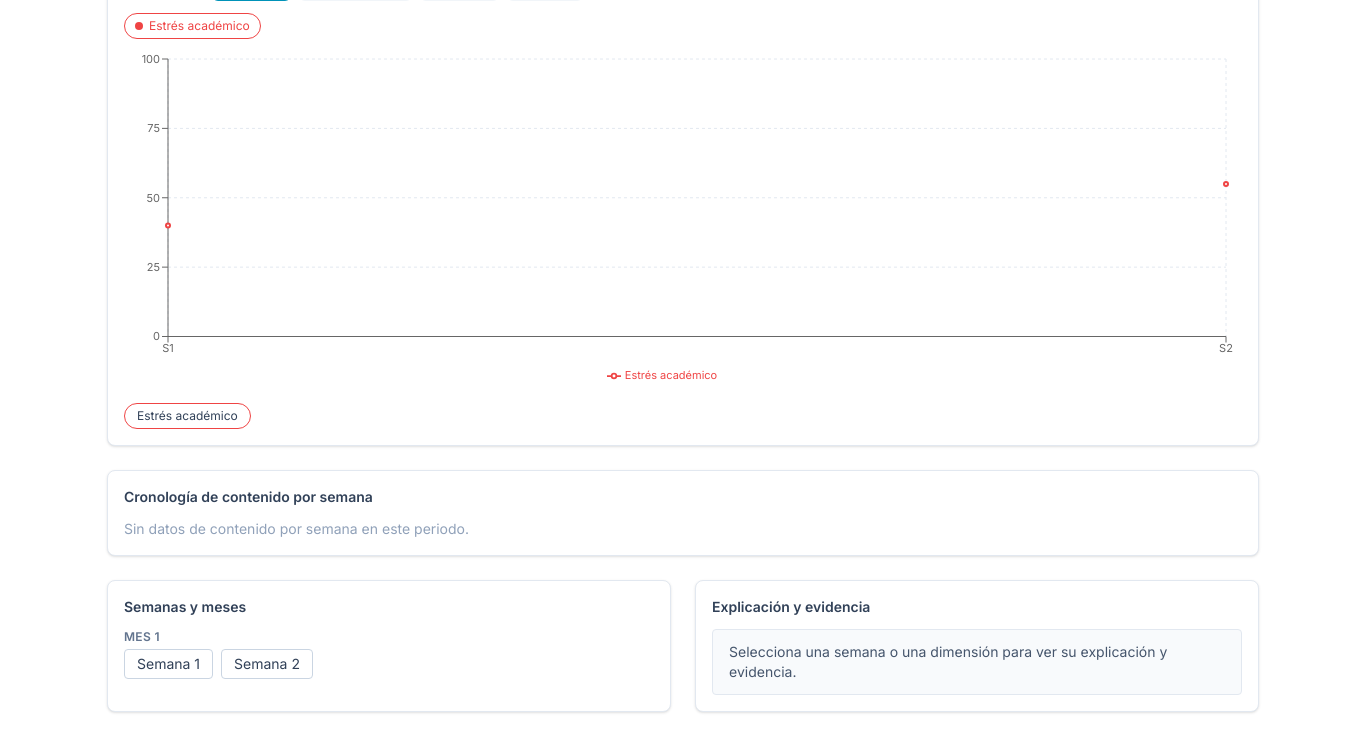
Test case: GdsTrazabilidad (vista de trazabilidad) › navega por semanas y abre el soporte de una semana (Req. 22.1, 22.3)
The image size is (1366, 737).
(page scrolled)
Click the button "Semana 1" at (168, 664), box [124,649,213,679]
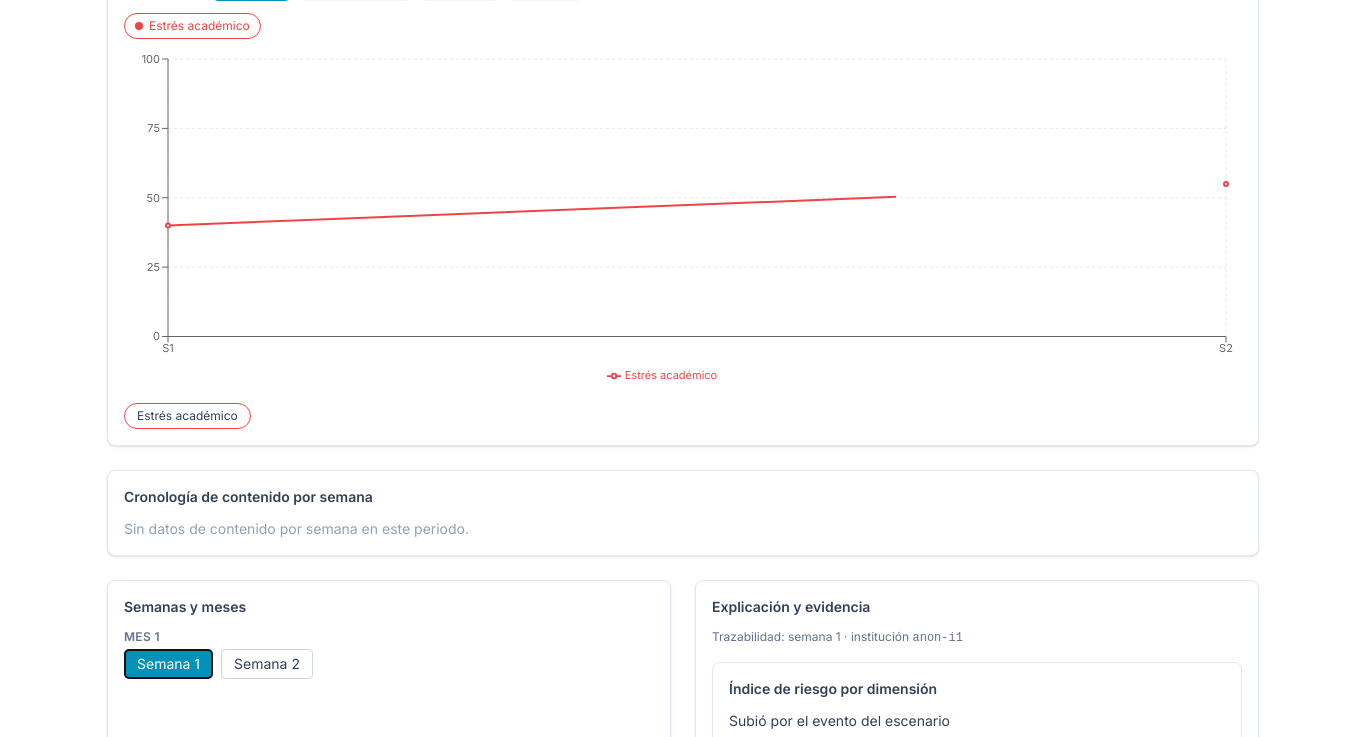
expect the text "Subió por el evento del escenario" is shown: met, box [729,712,950,729]
